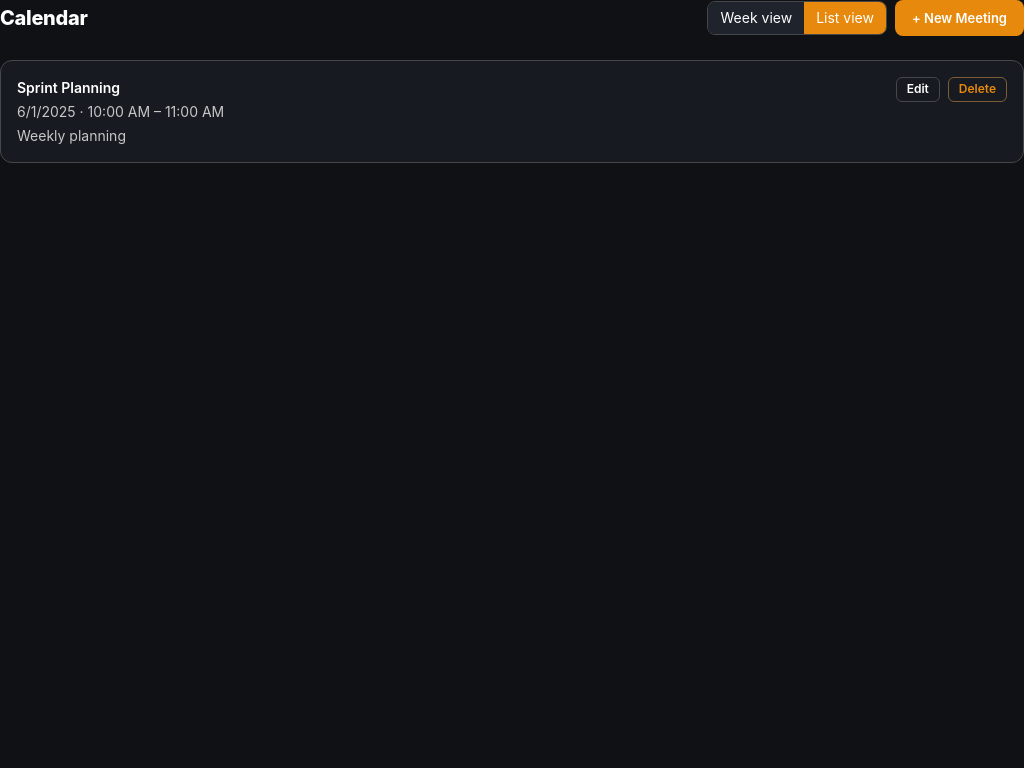
Test case: Calendar page › + New Meeting opens create modal
Step 1. Click the button "+ New Meeting" → point(960, 18), box [895,0,1023,36]
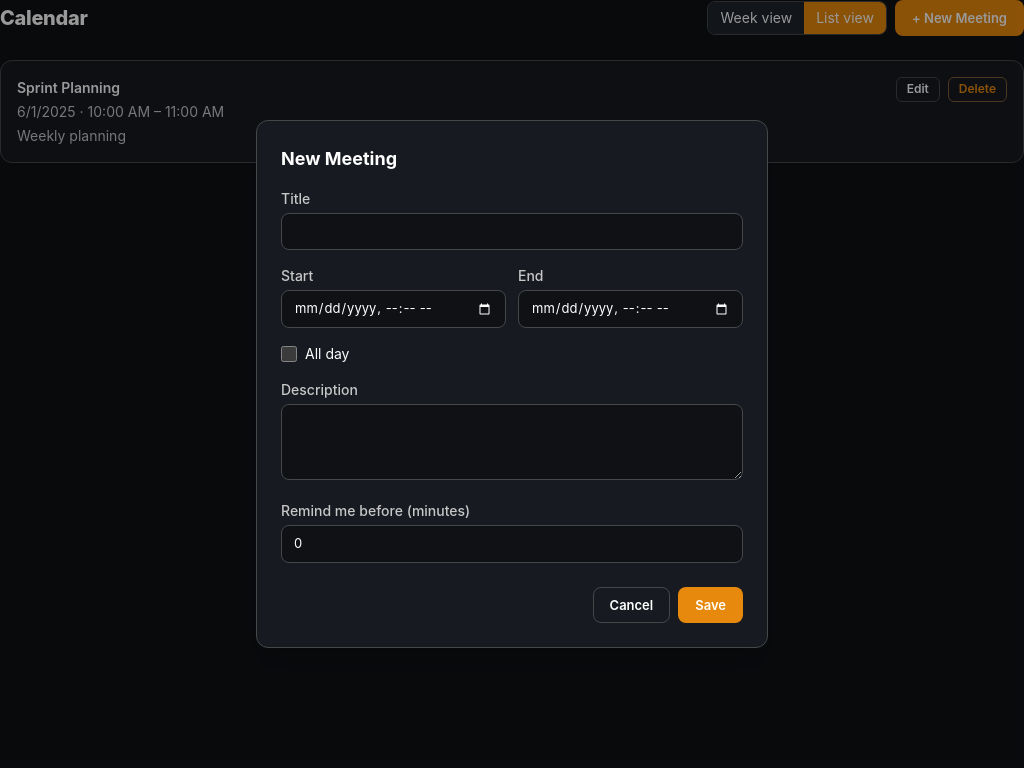
Result: the heading "New Meeting" is shown at [281,148,397,169]
